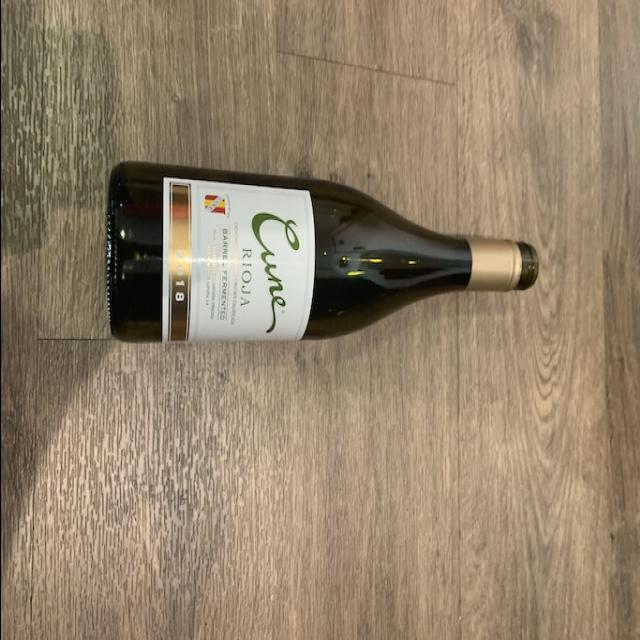litter: (105, 160, 541, 352)
